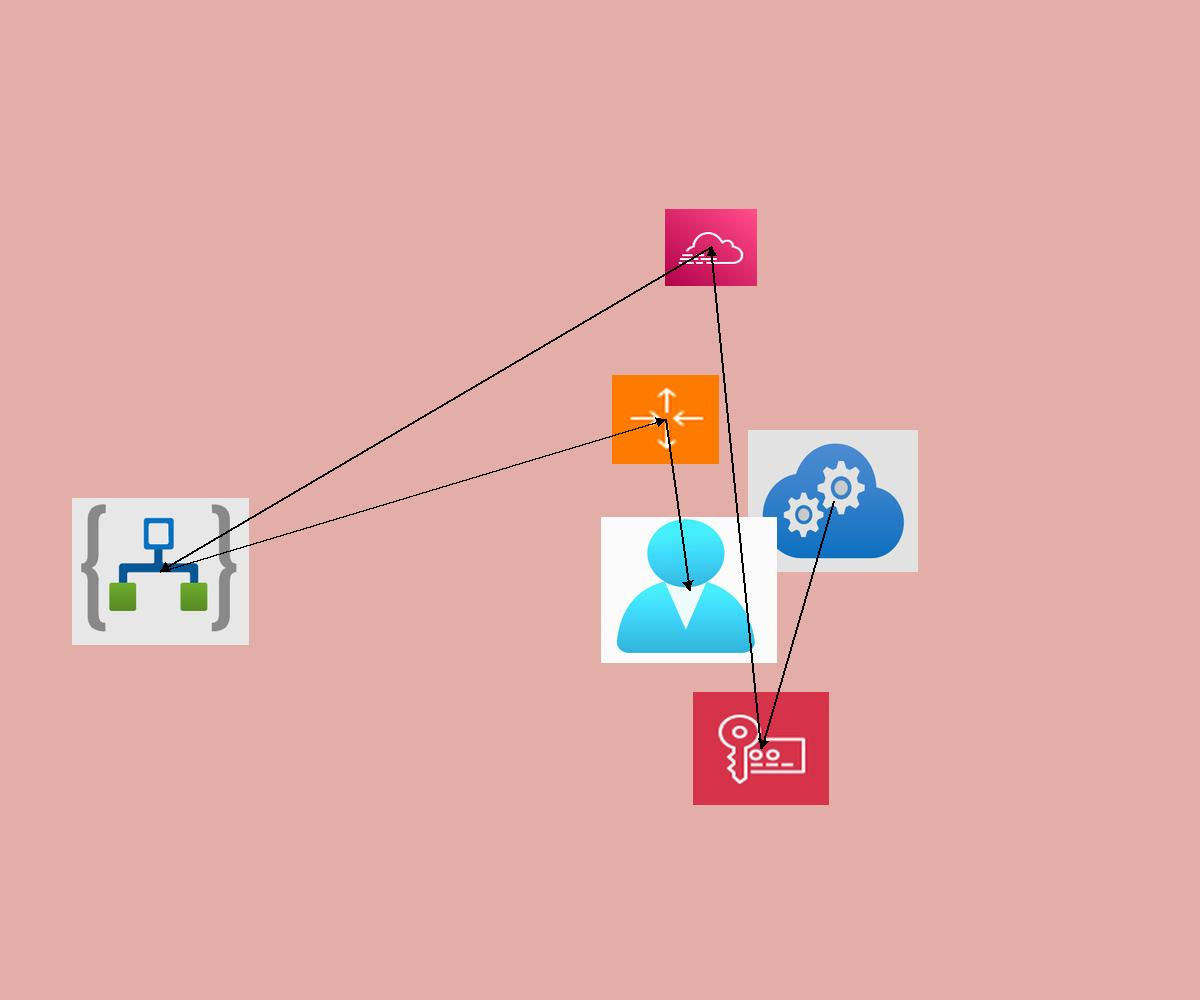AWS-CloudTrail: (665, 209, 757, 286)
AWS-Key-Management-Service: (693, 692, 829, 805)
AWS-Scaling-group: (612, 375, 719, 464)
Azure_cloud_services: (748, 430, 918, 572)
Azure_integration-204-Logic-Apps: (72, 498, 249, 645)
Azure_users: (601, 517, 777, 663)
